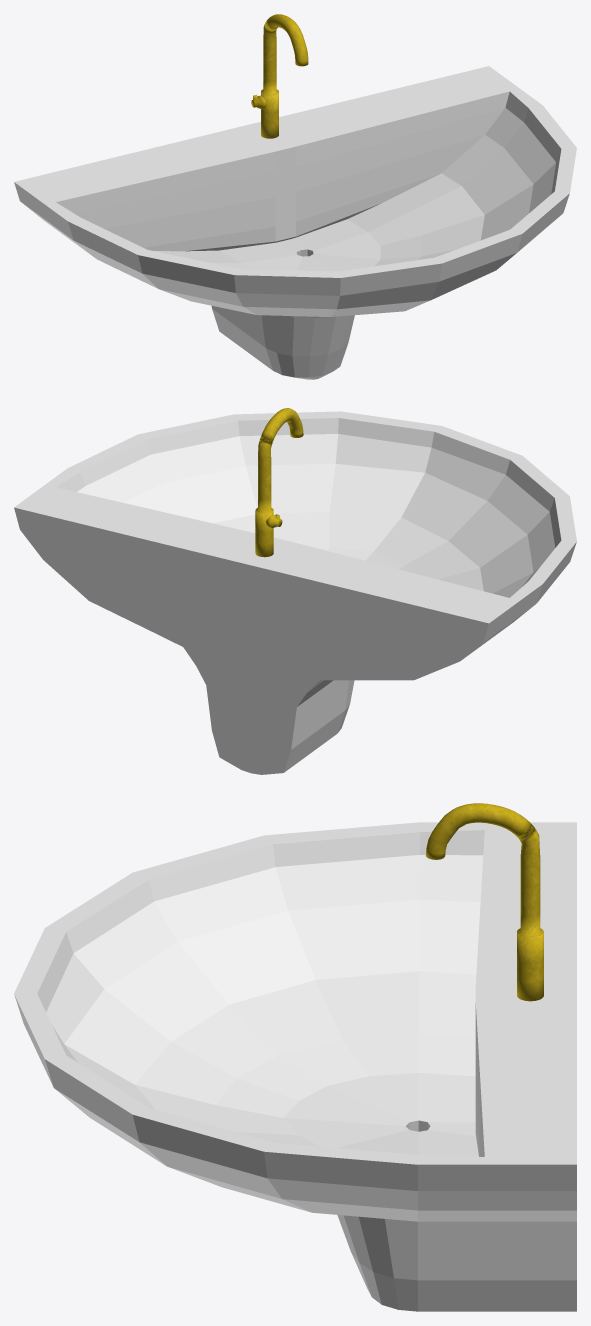
File: Waschbecken.fbx
3 views of the same model, one above another, from view 1: azimuth 30°, elevation 25°; view 2: azimuth 150°, elevation 25°; view 3: azimuth 270°, elevation 25° (orthographic). The views are drawn at different scales.
Parts seen in each view (by area): view 1: Waschbecken; view 2: Waschbecken; view 3: Waschbecken.
Boxes of the visible parts, box(x1,y1,x2,y2) form: Waschbecken: box(14, 14, 576, 379); Waschbecken: box(14, 408, 576, 774); Waschbecken: box(14, 803, 576, 1311).
Size of the model in its own units: 76.99 by 52.26 by 53.51.
